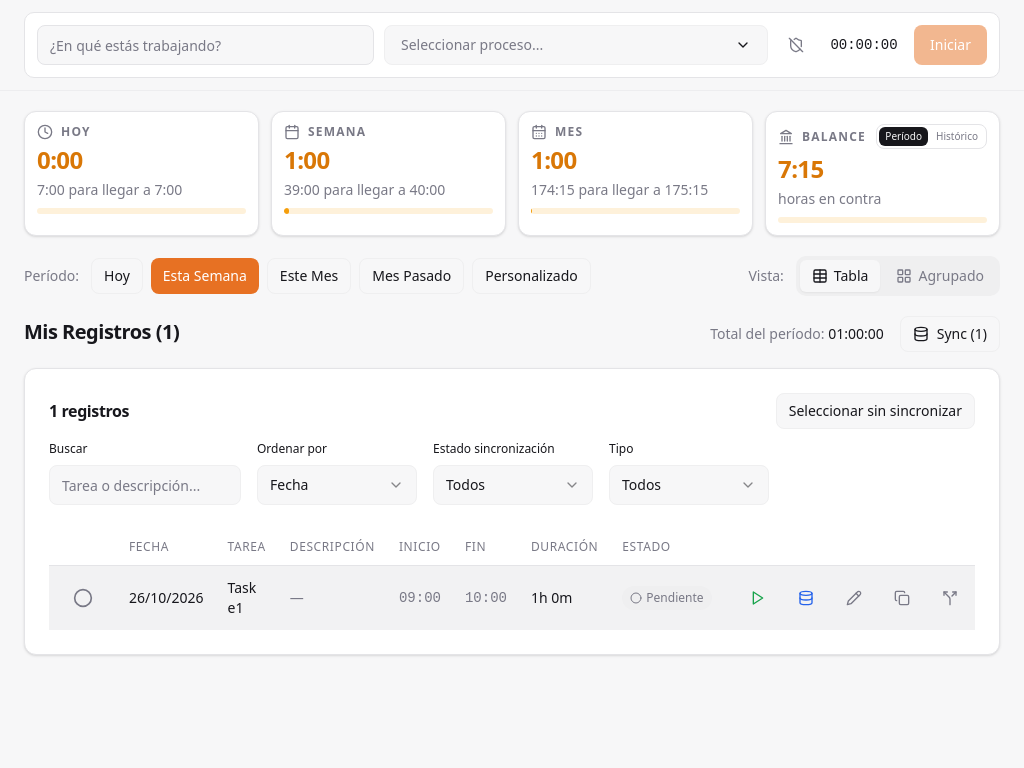
Test: TimeTrackingPage — config guard integration › shows guard panel instead of execute button when dbConfig is incomplete
// Open the sync panel
Click the button "Sync (1)" at (950, 334), box top-left (900, 316), bottom-right (1000, 352)
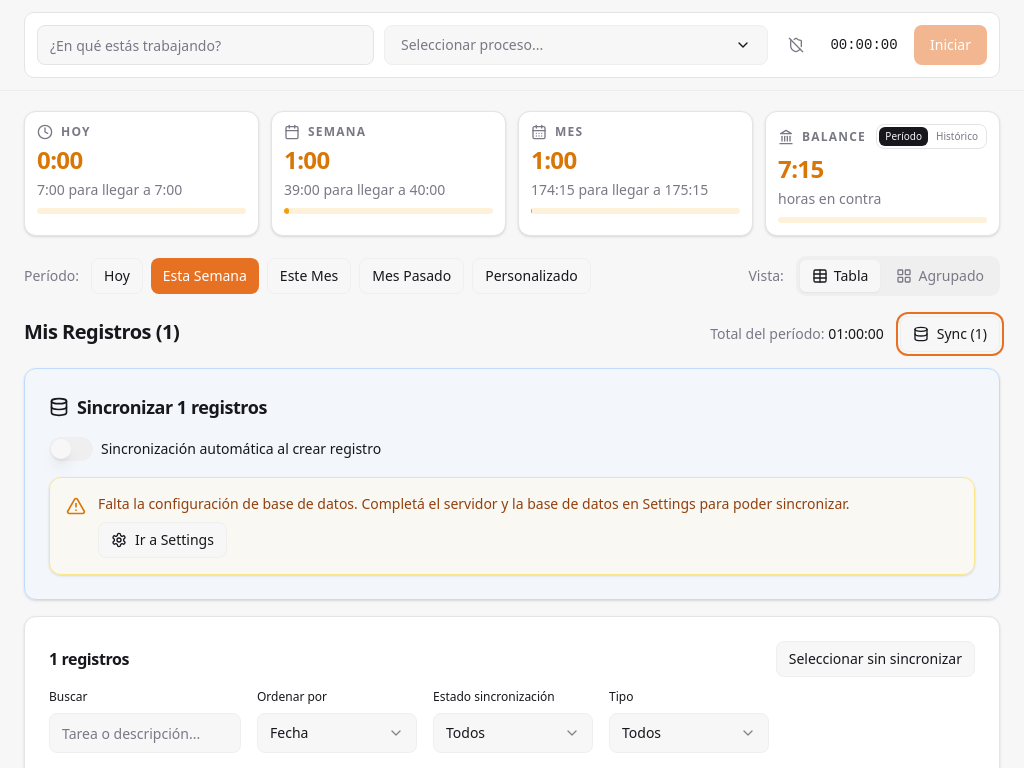
Check: the text "configuración de base de datos" is shown, box top-left (98, 494), bottom-right (850, 513)
Check: the button "Ir a Settings" is shown, box top-left (98, 522), bottom-right (227, 558)
